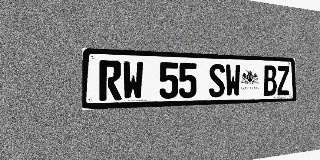5: (159, 62, 178, 99), (179, 63, 197, 98)
B: (263, 65, 277, 96)
R: (99, 60, 122, 101)
S: (209, 64, 225, 97)
W: (122, 61, 144, 100), (225, 64, 241, 97)
Z: (277, 66, 290, 95)
